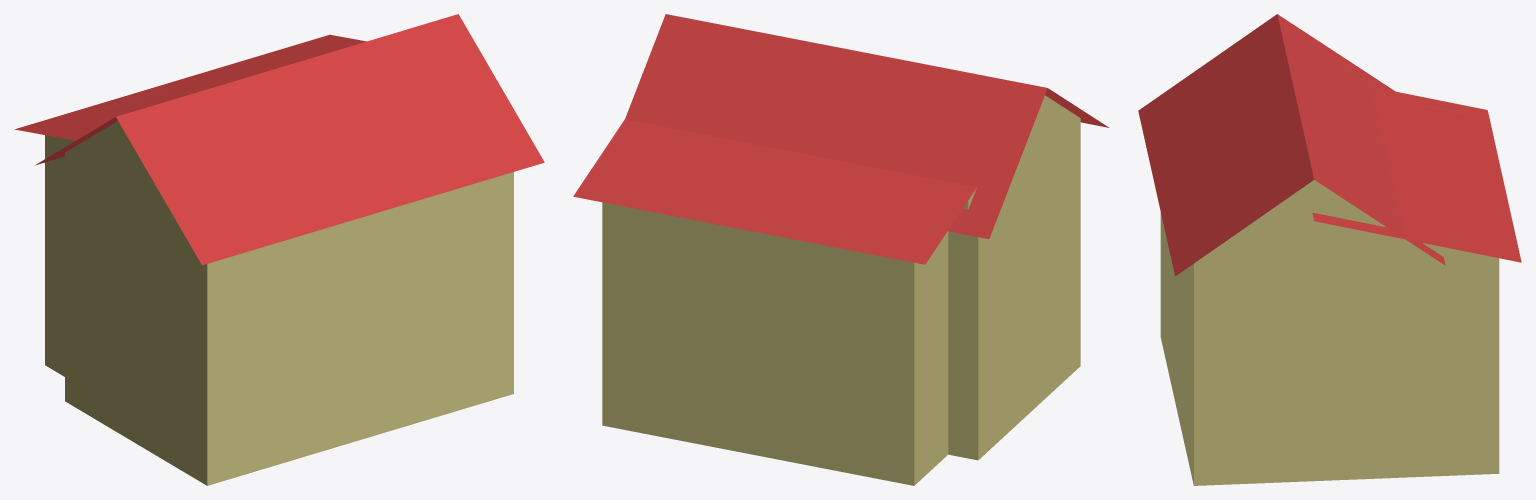
The picture shows the model from 3 angles, left to right: view 1: azimuth 30°, elevation 25°; view 2: azimuth 150°, elevation 25°; view 3: azimuth 270°, elevation 25°; orthographic projection. The views are drawn at different scales.
Bounding box in the file's own units: 10.11 × 9.27 × 8.27.
